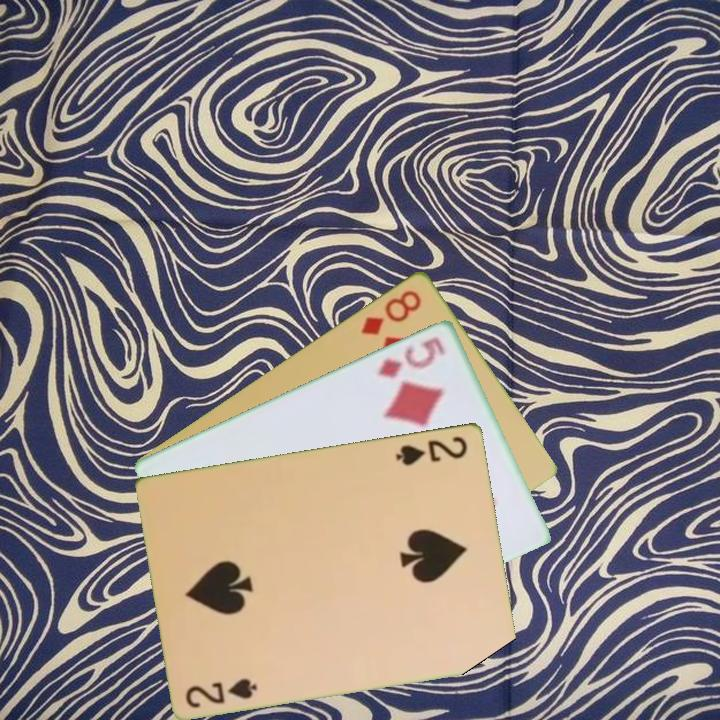2s: (392, 432, 471, 469), (182, 674, 261, 710)
5d: (374, 333, 448, 381)
8d: (357, 285, 425, 338)
